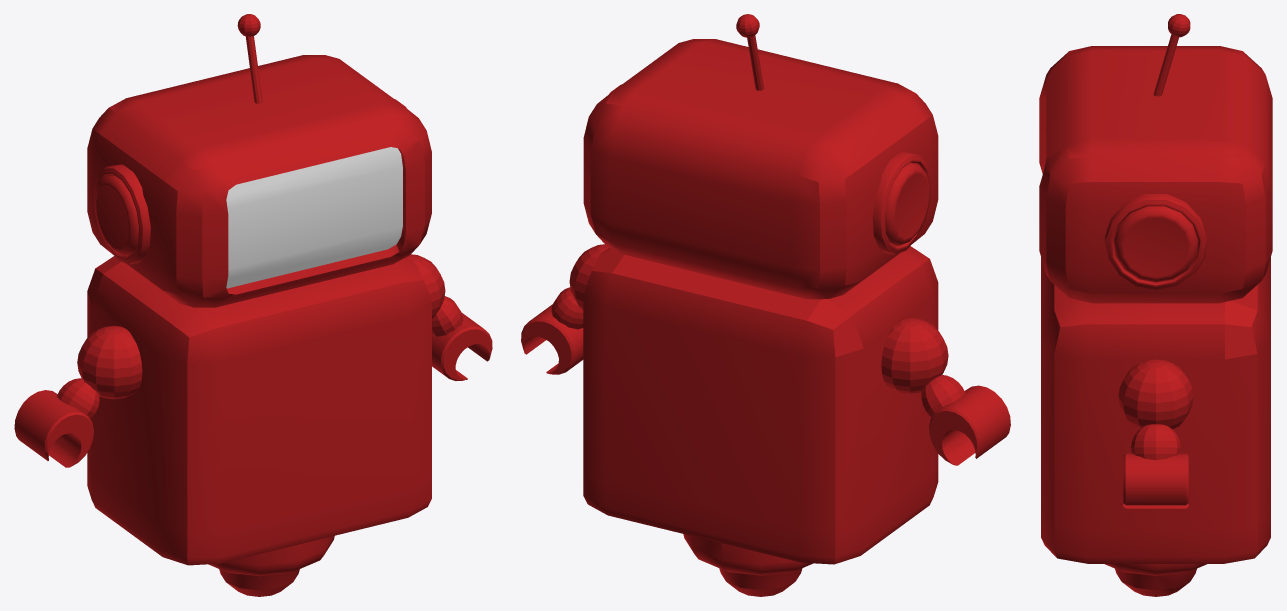
The model's file is robot.glb.
3 views of the same model, side by side, from view 1: azimuth 30°, elevation 25°; view 2: azimuth 150°, elevation 25°; view 3: azimuth 270°, elevation 25° (orthographic). The views are drawn at different scales.
Visible parts, largest first — view 1: pCube1; view 2: pCube1; view 3: pCube1.
Boxes of the visible parts, x1,y1,x2,y2 form: pCube1: (14,14,492,596); pCube1: (521,14,1010,596); pCube1: (1039,14,1272,596).
Size of the model in its own units: 0.1883 by 0.2285 by 0.0838.
